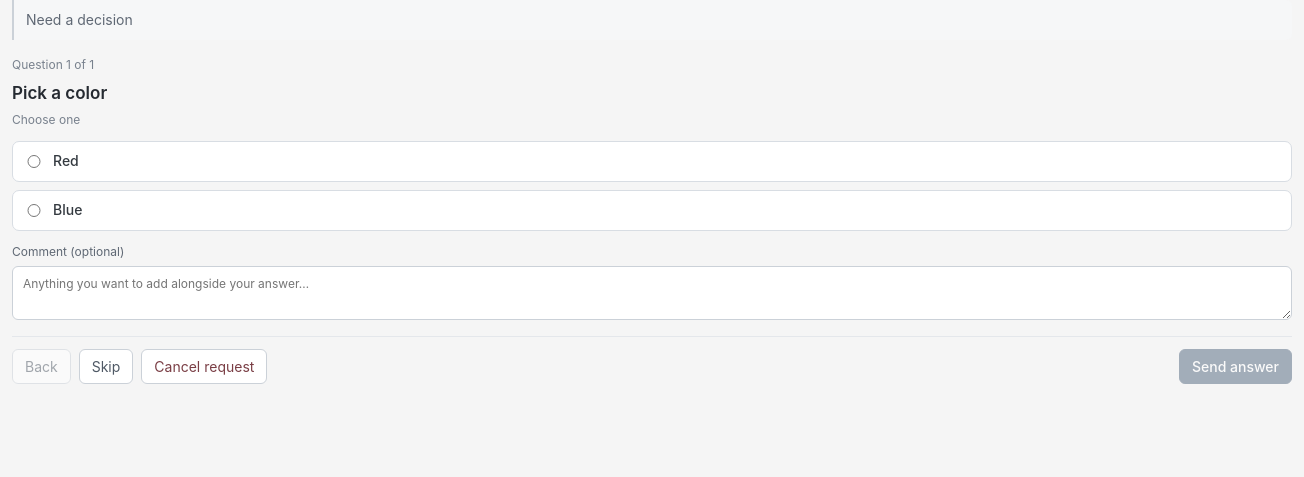
Test: QuestionRich — submit error handling › a retry-safe error (store_failed) shows the message with a "try again" hint, form stays enabled
Click the radio button labelled "Red" at (34, 162), box x1=25 y1=155 x2=43 y2=168
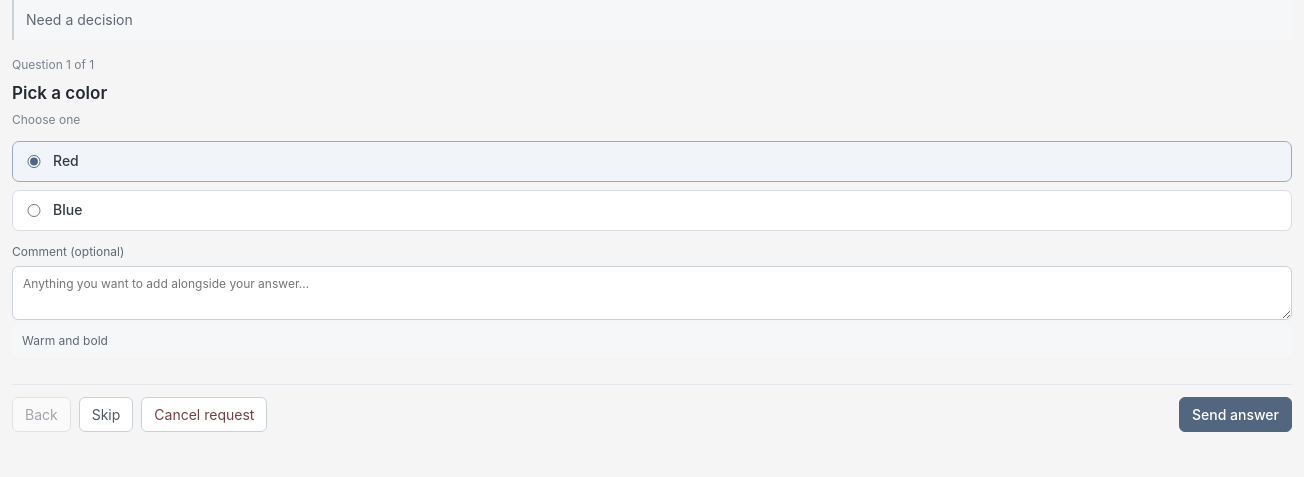
Click the button with test id "question-submit" at (1236, 414), box x1=1179 y1=397 x2=1292 y2=432
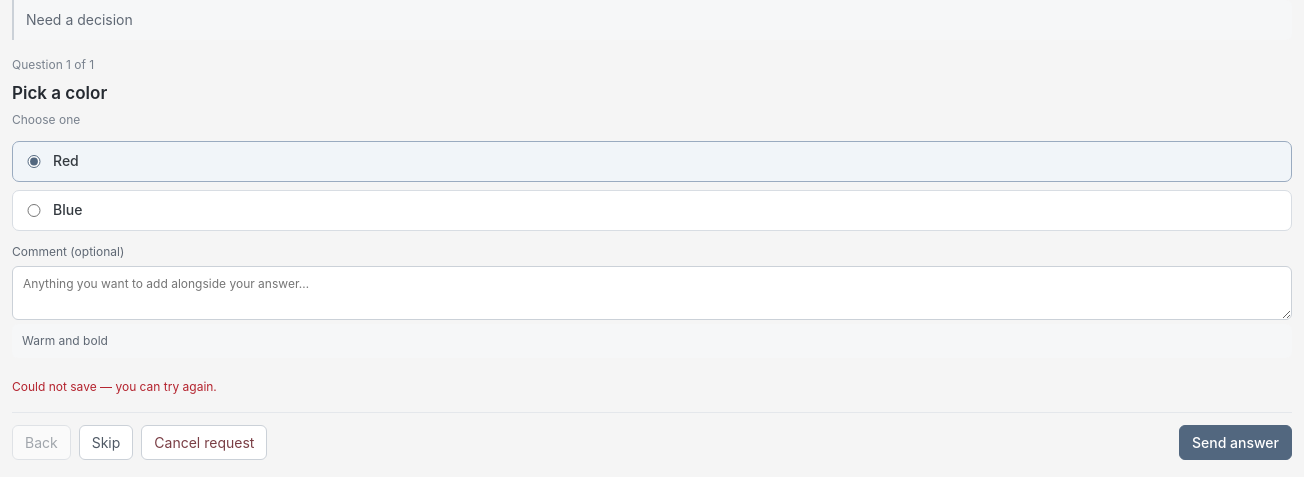
expect the button with test id "question-submit" is enabled: met, box x1=1179 y1=425 x2=1292 y2=460
expect the element with test id "question-submit-error" shows "Could not save": met, box x1=12 y1=379 x2=97 y2=394
expect the element with test id "question-submit-error" shows "try again": met, box x1=97 y1=379 x2=217 y2=394
